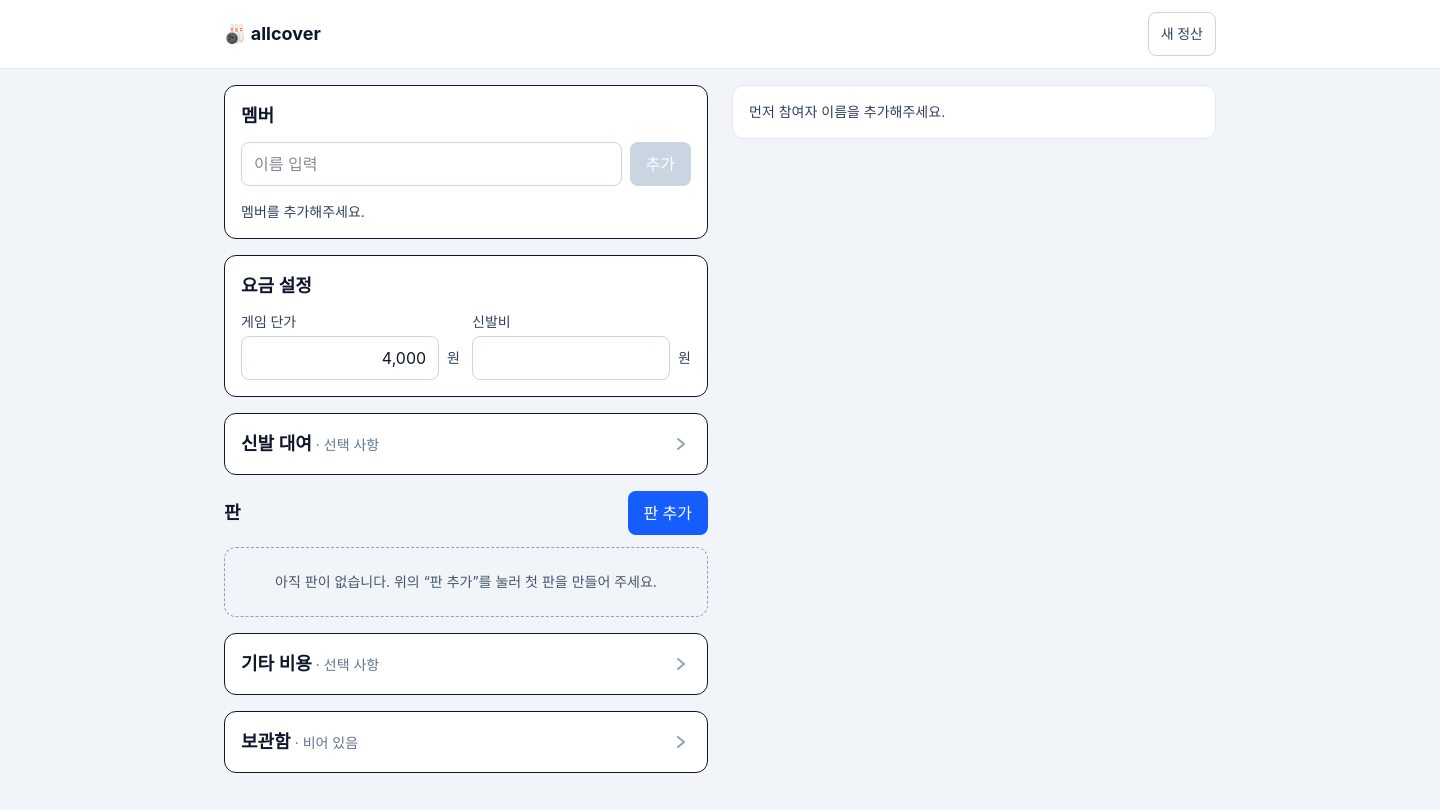
Test: App 스모크 › 세션 도중 저장이 실패하면 안내 배너가 나타난다
Check: the text "저장이 막혀 있어" is not shown
In the field named "멤버 이름": [431, 164] box [241,142,622,186], type "가"
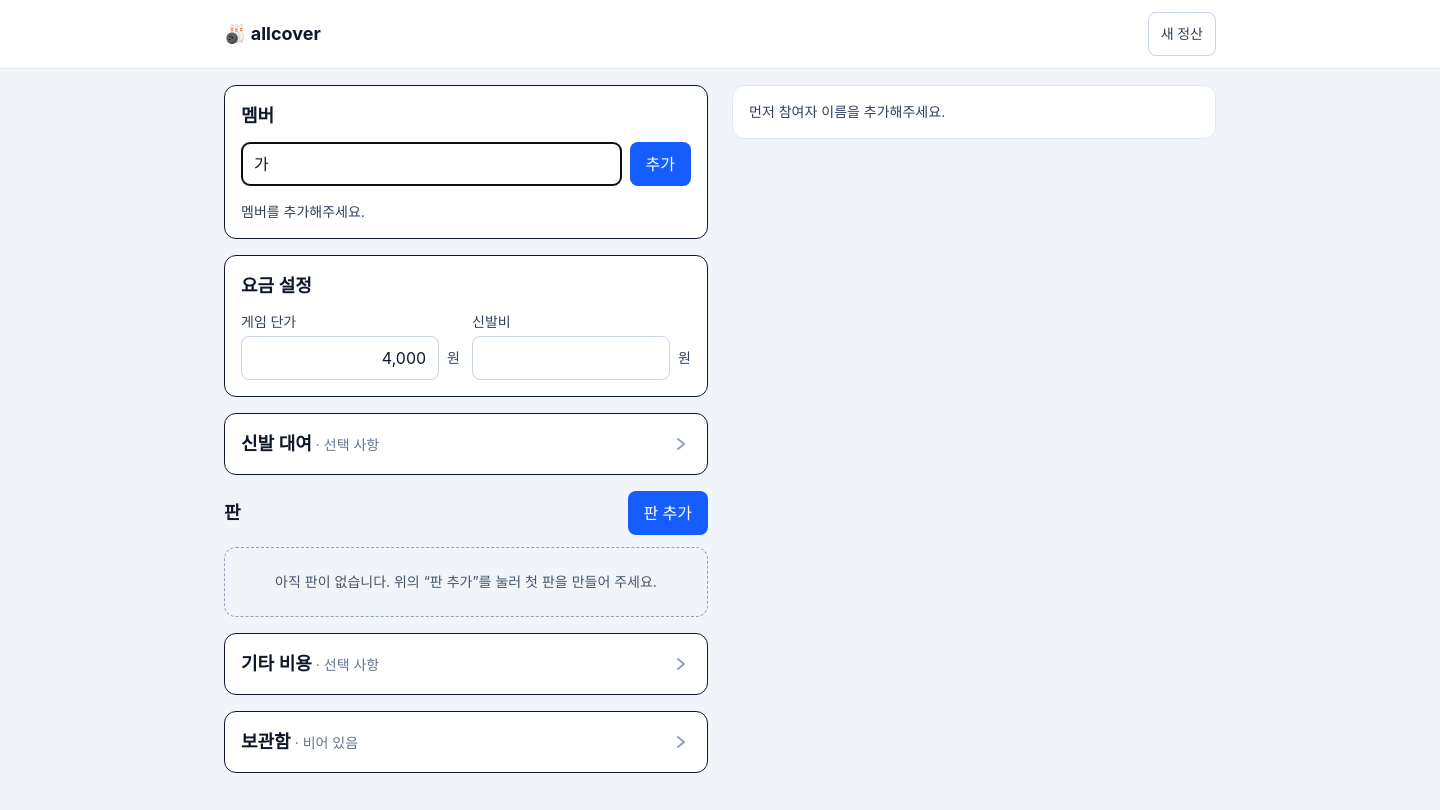
Press Enter
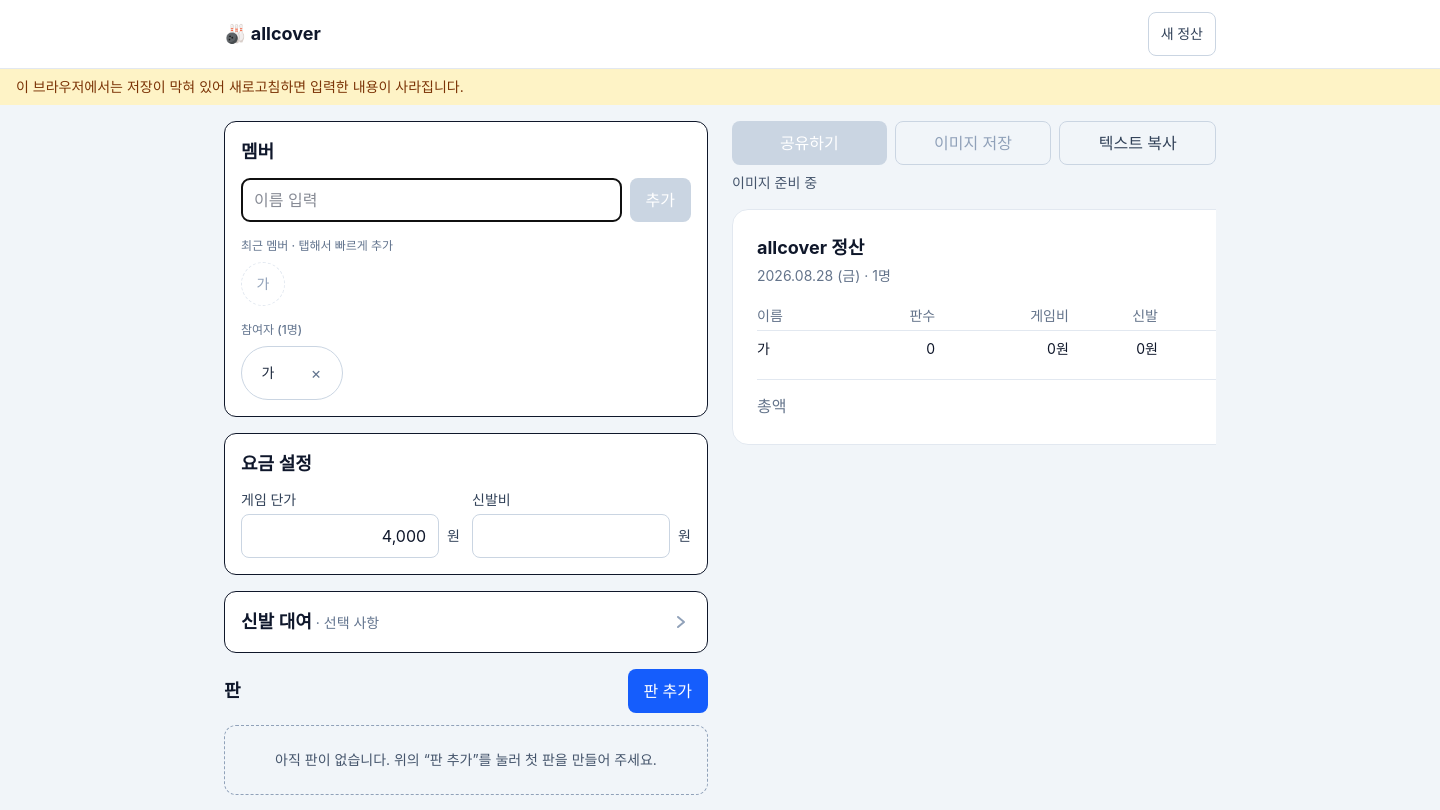
Check: the text "이 브라우저에서는 저장이 막혀 있어 새로고침하면 입력한 내용이 사라집니다." is shown, box [0,69,1439,105]
